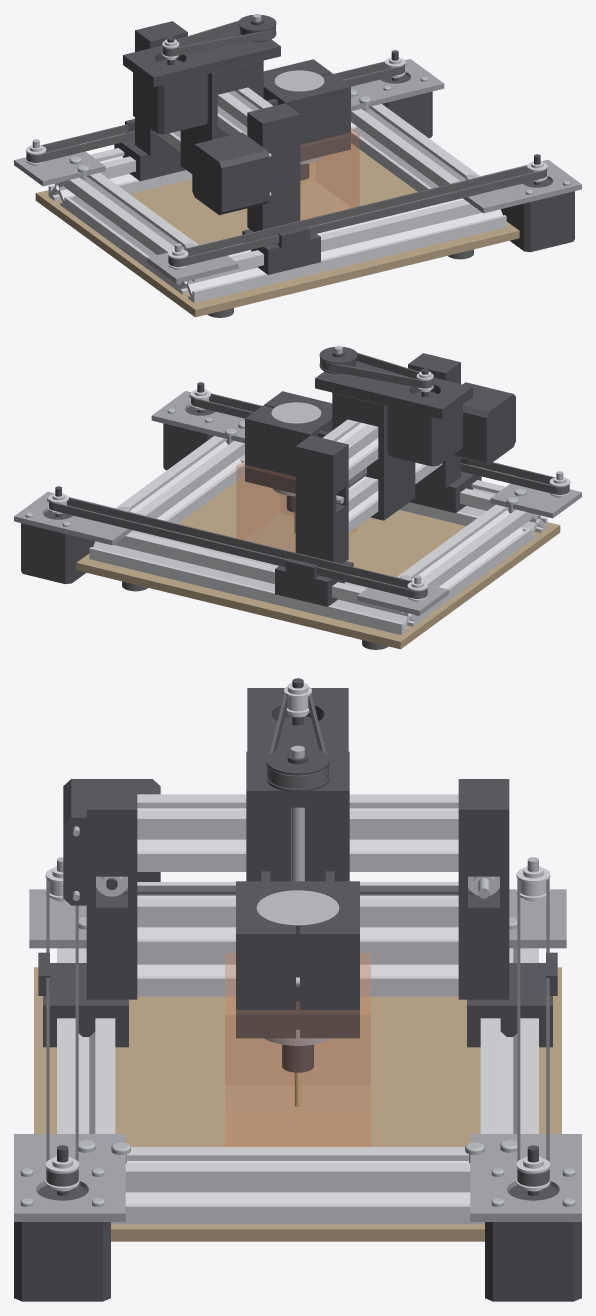
File: cnc_v1_rev0.glb
The picture shows the model from 3 angles, top to bottom: view 1: azimuth 30°, elevation 25°; view 2: azimuth 150°, elevation 25°; view 3: azimuth 270°, elevation 25°; orthographic projection. The views are drawn at different scales.
Visible parts, largest first — view 1: base_board, rail_x1, slider_x_f, effector, belt_x_f, cross_y1, cross_y2, motor_y, spindle_holder, work_cube, motor_z, motor_x_f (+12 smaller); view 2: base_board, rail_x2, slider_x_r, effector, belt_x_r, cross_y1, cross_y2, spindle_holder, work_cube, motor_z, motor_y, motor_x_r (+13 smaller); view 3: base_board, cross_y2, work_cube, spindle_holder, bar_upper, slider_x_f, slider_x_r, effector, bar_lower, motor_x_f, motor_x_r, cross_y1 (+16 smaller).
Part boxes in pixels (x1,y1,x2,y2): base_board: [35, 143, 519, 317]; rail_x1: [176, 192, 506, 303]; slider_x_f: [242, 103, 320, 274]; effector: [123, 29, 280, 173]; belt_x_f: [168, 165, 546, 266]; cross_y1: [66, 172, 198, 289]; cross_y2: [351, 104, 480, 191]; motor_y: [192, 132, 269, 215]; spindle_holder: [263, 59, 350, 161]; work_cube: [301, 128, 359, 219]; motor_z: [133, 36, 208, 134]; motor_x_f: [501, 154, 574, 252]; base_board: [76, 475, 560, 649]; rail_x2: [89, 524, 419, 635]; slider_x_r: [275, 435, 353, 606]; effector: [315, 361, 472, 520]; belt_x_r: [49, 497, 427, 598]; cross_y1: [397, 504, 529, 621]; cross_y2: [115, 436, 244, 523]; spindle_holder: [245, 391, 332, 493]; work_cube: [236, 460, 356, 551]; motor_z: [387, 368, 462, 466]; motor_y: [452, 382, 515, 464]; motor_x_r: [21, 486, 94, 584]; base_board: [34, 967, 561, 1241]; cross_y2: [115, 1147, 480, 1224]; work_cube: [225, 953, 370, 1146]; spindle_holder: [236, 871, 359, 1038]; bar_upper: [137, 794, 458, 871]; slider_x_f: [38, 779, 137, 1047]; slider_x_r: [458, 779, 557, 1047]; effector: [246, 688, 349, 881]; bar_lower: [137, 882, 458, 959]; motor_x_f: [14, 1145, 110, 1301]; motor_x_r: [485, 1145, 581, 1301]; cross_y1: [137, 959, 458, 996].
Size of the model in its own units: 0.334 by 0.18 by 0.2473.
